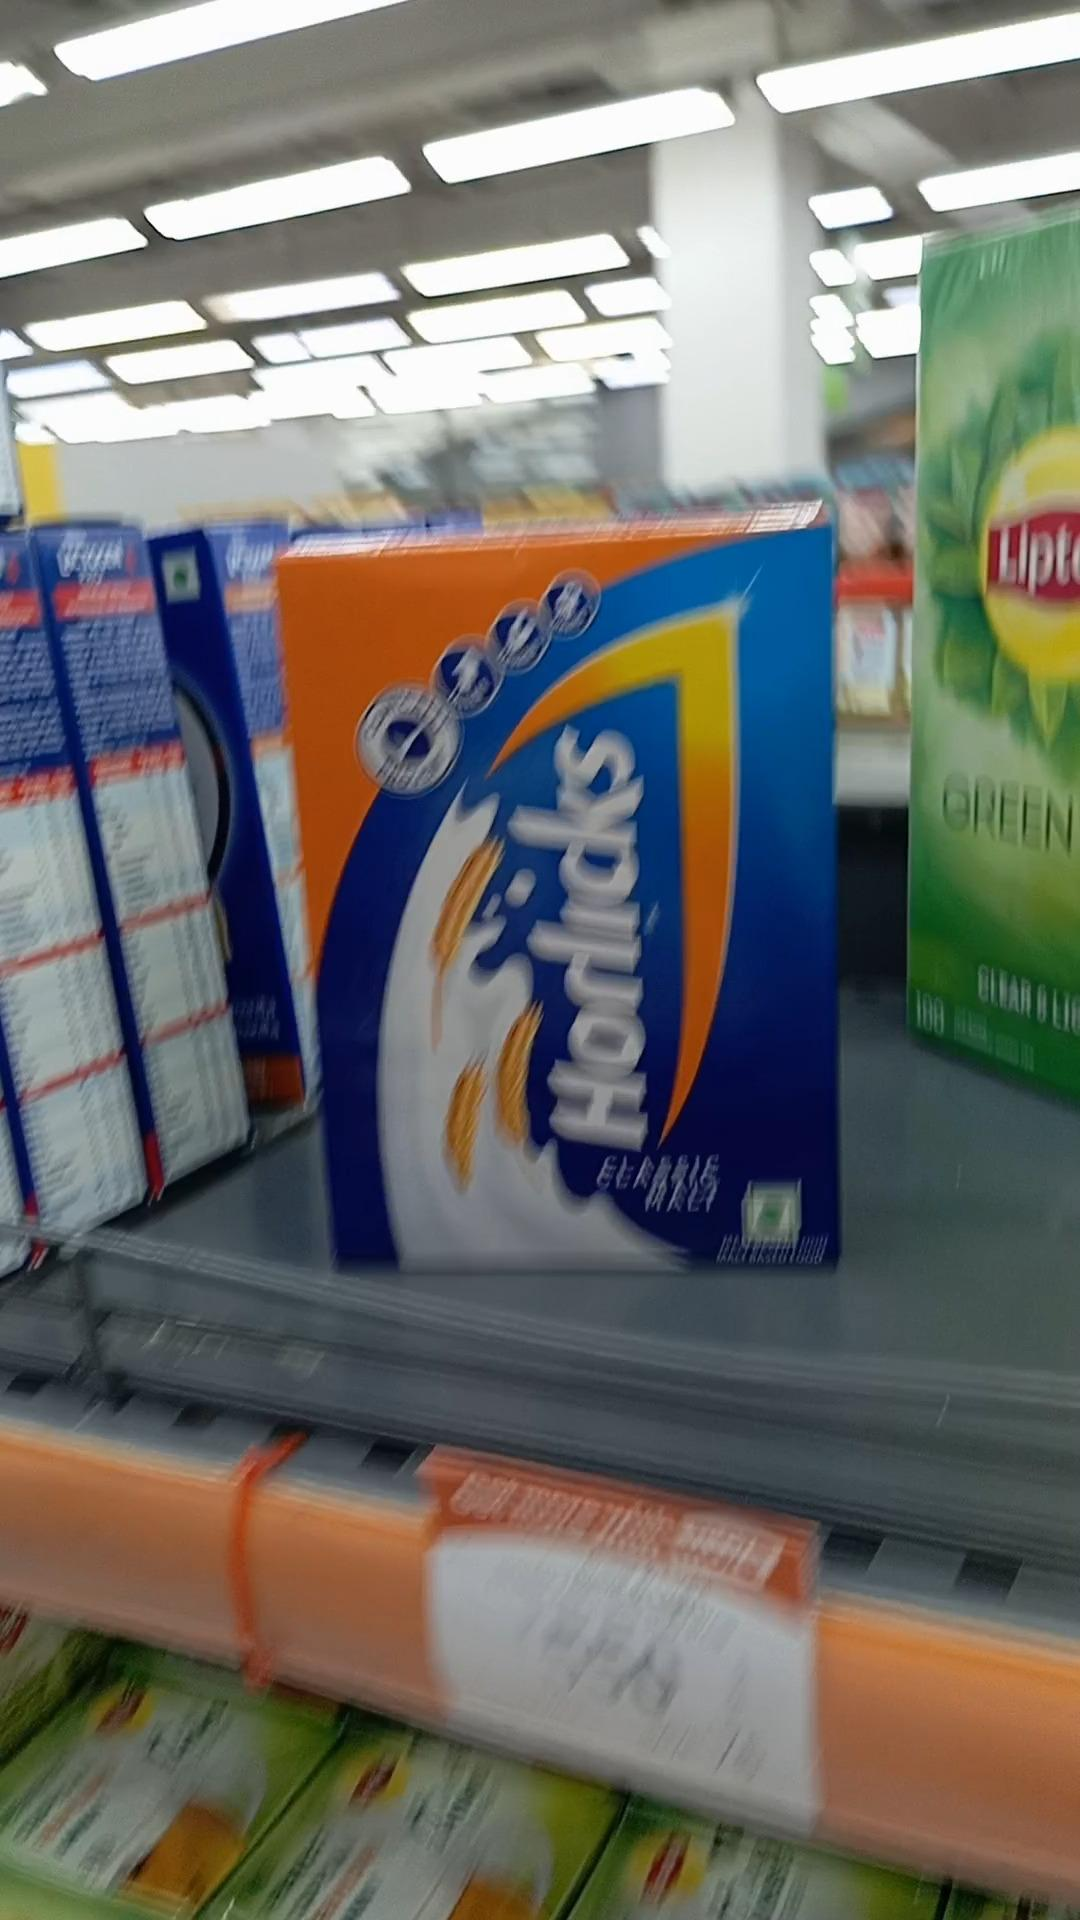HORLICK_CLASSIC_MALT_500_G_PACK: (280, 514, 855, 1282)
